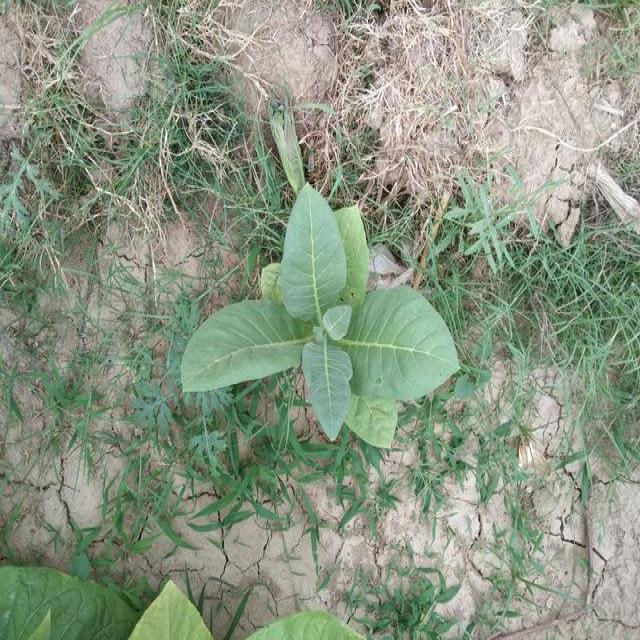crop: (175, 180, 469, 450)
